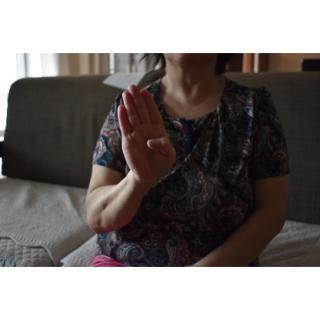KAAF: (116, 82, 182, 189)
